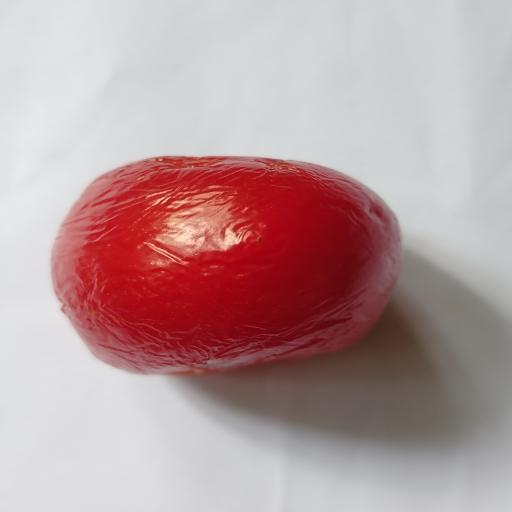spoiled: (52, 156, 402, 374)
